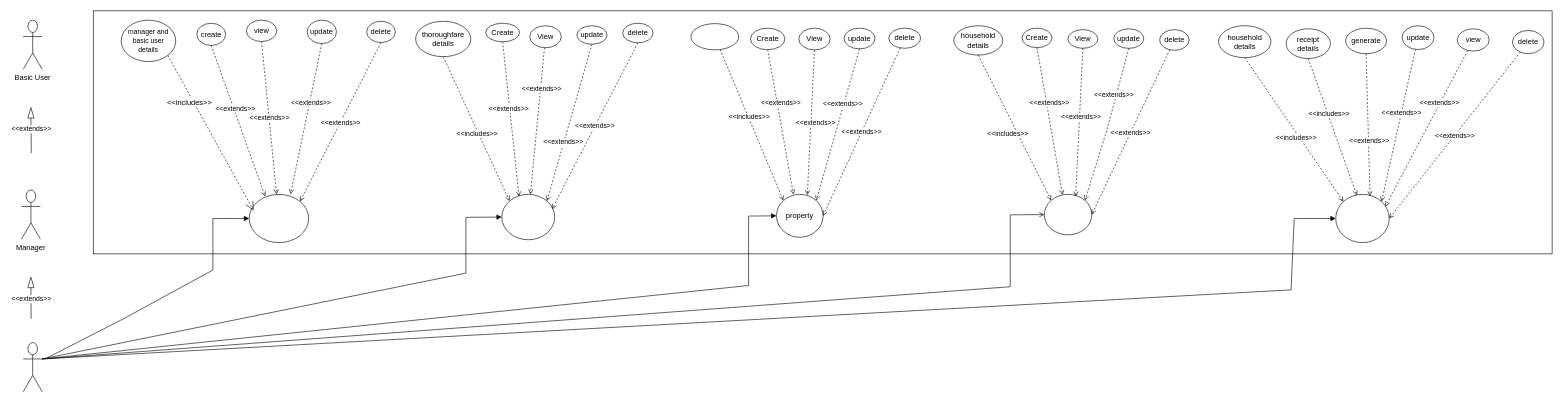
Image size: 1563x415. Some labels were removed from this diagram. Here are the shapes that lost their labels. From the top down, the centre of each, then its label:
At [714,36]: "properties details".
At [279,218]: "estate".
At [528,217]: "thoroughfare".
At [1068,214]: "household".
At [1362,218]: "receipt".
At [32,367]: "Administrator".
